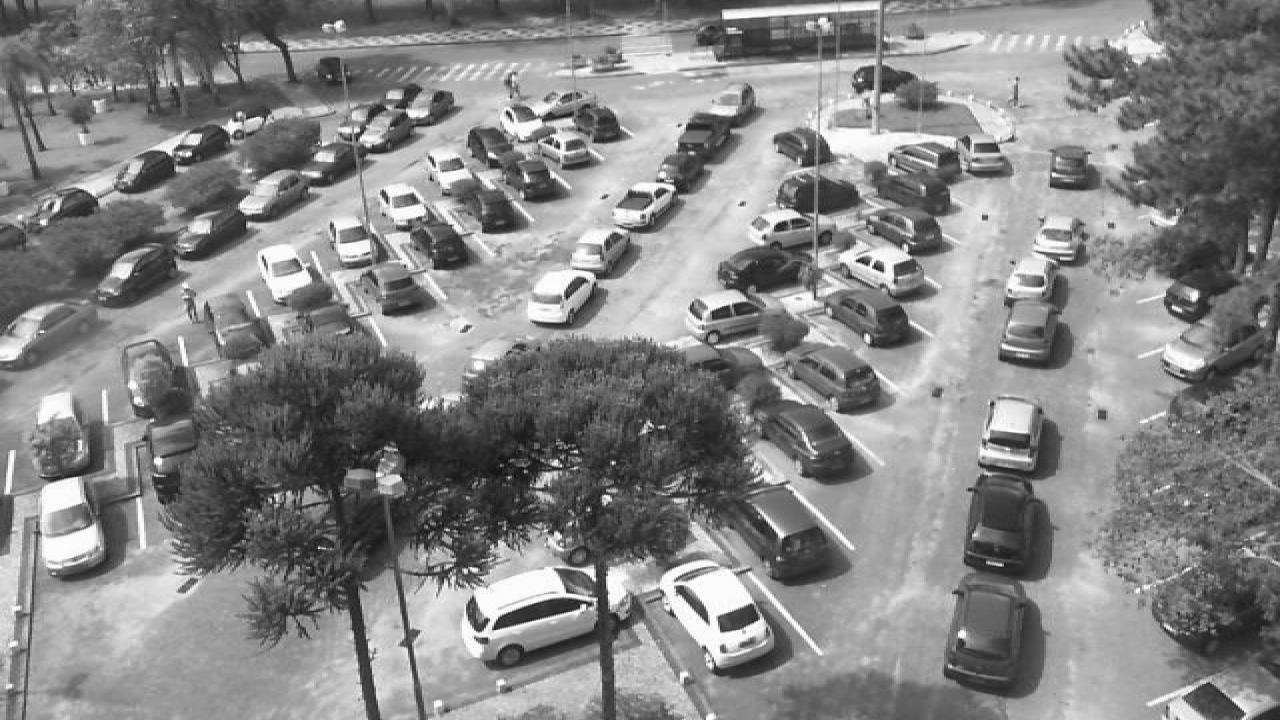Car: (452, 566, 634, 669), (652, 557, 780, 670), (728, 481, 836, 578), (942, 572, 1030, 690), (958, 474, 1042, 576), (748, 396, 850, 475), (34, 475, 108, 579), (780, 341, 882, 411), (0, 299, 100, 370), (118, 336, 188, 419), (1162, 320, 1254, 382), (974, 393, 1046, 472), (92, 242, 178, 307), (28, 391, 90, 477), (684, 288, 774, 346), (822, 287, 910, 345), (142, 418, 202, 503), (836, 245, 926, 298), (864, 206, 946, 256), (716, 242, 798, 292), (206, 290, 272, 352), (678, 342, 762, 390), (172, 208, 248, 261), (528, 269, 598, 326), (356, 261, 426, 315), (998, 300, 1058, 362), (874, 168, 954, 214), (1162, 269, 1234, 319), (464, 336, 542, 382), (258, 245, 318, 304), (748, 209, 828, 253), (610, 181, 678, 232), (236, 169, 308, 217), (778, 172, 856, 213), (886, 143, 962, 183), (292, 140, 360, 184), (566, 229, 630, 274), (406, 222, 466, 268), (32, 187, 104, 225), (500, 158, 562, 202), (672, 117, 730, 164), (1006, 254, 1060, 303), (496, 102, 560, 143), (376, 184, 434, 229), (772, 127, 834, 169), (698, 83, 756, 127), (110, 153, 172, 193), (424, 146, 480, 190), (466, 189, 520, 234), (352, 111, 412, 151), (1032, 216, 1084, 262), (330, 222, 380, 268), (652, 152, 706, 194), (168, 125, 230, 161), (538, 130, 598, 167), (1048, 144, 1096, 189), (960, 136, 1010, 178), (396, 93, 452, 130), (464, 125, 516, 163), (850, 66, 920, 94), (570, 105, 622, 142)
